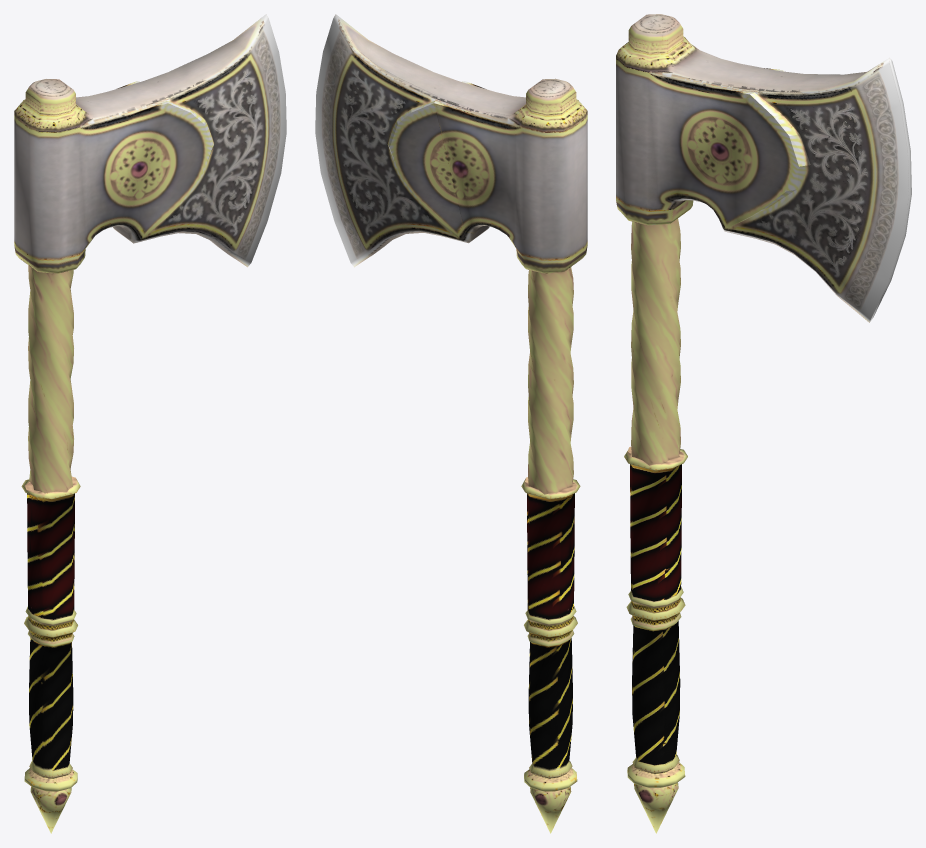
The model's file is w_waraxe_t3.glb.
3 views of the same model, side by side, from view 1: azimuth 30°, elevation 25°; view 2: azimuth 150°, elevation 25°; view 3: azimuth 330°, elevation 25° (orthographic). The views are drawn at different scales.
Visible parts, largest first — view 1: WarAxe:0; view 2: WarAxe:0; view 3: WarAxe:0.
Boxes of the visible parts, x1,y1,x2,y2 form: WarAxe:0: [14, 14, 286, 833]; WarAxe:0: [315, 14, 587, 833]; WarAxe:0: [616, 14, 911, 833].
Size of the model in its own units: 17.27 by 48.23 by 4.05.
1 material, 1 textured.
